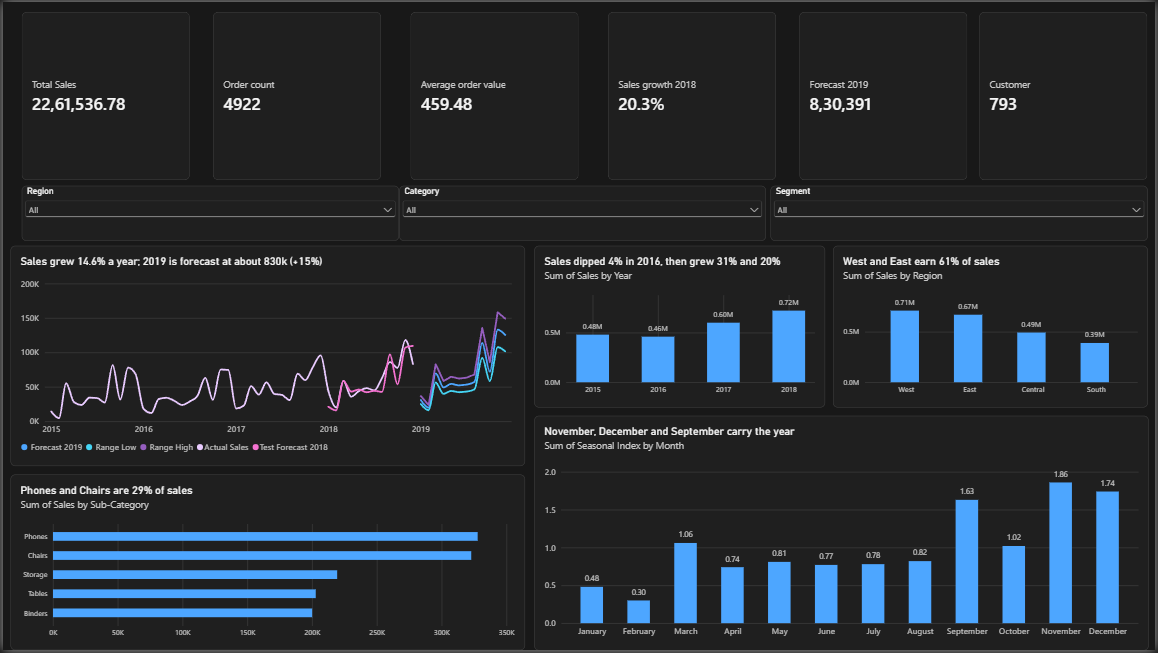

What the dashboard file says about the page in this screenshot:
{"tool":"powerbi","page":{"name":"Page 1","canvas":[1920,1080],"ordinal":0},"visuals":[{"type":"cardVisual","fields":{"Data":["Sum(orders.Sales)"]},"box":[30.9,16.5,280,280],"z":0},{"type":"cardVisual","fields":{"Data":["orders.Order count"]},"box":[349.9,16.5,280,280],"z":1000},{"type":"cardVisual","fields":{"Data":["orders.Average order value"]},"box":[679.2,16.5,280,280],"z":2000},{"type":"cardVisual","fields":{"Data":["orders.Sales growth 2018"]},"box":[1008.6,16.5,280,280],"z":3000},{"type":"cardVisual","fields":{"Data":["Sum(monthly.Forecast 2019)"]},"box":[1326.2,16.5,280,280],"z":3001},{"type":"cardVisual","fields":{"Data":["Count(orders.Customer ID)"]},"box":[1627,16.5,280,280],"z":3002},{"type":"slicer","fields":{"Values":["orders.Region"]},"box":[31.2,306.3,629.1,91.7],"z":3003},{"type":"slicer","fields":{"Values":["orders.Segment"]},"box":[1278.5,306.3,629.1,91.7],"z":3004},{"type":"slicer","fields":{"Values":["orders.Category"]},"box":[660.3,306.3,610.8,91.7],"z":3005},{"type":"lineChart","title":"Sales grew 14.6% a year; 2019 is forecast at about 830k (+15%)","fields":{"Category":["monthly2.Month.Variation.Date Hierarchy.Year","monthly2.Month.Variation.Date Hierarchy.Quarter","monthly2.Month.Variation.Date Hierarchy.Month","monthly2.Month.Variation.Date Hierarchy.Day"],"Y":["Sum(monthly2.Forecast 2019)","Sum(monthly2.Range Low)","Sum(monthly2.Range High)","Sum(monthly2.Actual Sales)","Sum(monthly2.Test Forecast 2018)"]},"box":[12.7,407.2,857.8,367.4],"z":3006},{"type":"clusteredColumnChart","title":"Sales dipped 4% in 2016, then grew 31% and 20%","fields":{"Category":["orders1.Year"],"Y":["Sum(orders1.Sales)"]},"box":[884.9,407.2,485,269.6],"z":3007},{"type":"clusteredColumnChart","title":"\tNovember, December and September carry the year","fields":{"Category":["seasonal.Month.Variation.Date Hierarchy.Month"],"Y":["Sum(seasonal.Seasonal Index)"]},"box":[884.9,689.5,1024.3,390.9],"z":3008},{"type":"clusteredBarChart","title":"Phones and Chairs are 29% of sales","fields":{"Category":["orders.Sub-Category"],"Y":["Sum(orders.Sales)"]},"box":[12.7,787.2,857.8,293.2],"z":3009},{"type":"clusteredColumnChart","title":"West and East earn 61% of sales","fields":{"Category":["orders.Region"],"Y":["Sum(orders.Sales)"]},"box":[1382.6,407.2,524.8,269.6],"z":3010}]}

Visuals, with their boxes in screenshot pixels (x1, y1, x2, y2), scaled from the page's 1920x1080 canvas onto the 1158x653 screenshot:
cardVisual - Sum(orders.Sales): (19, 10, 188, 179)
cardVisual - orders.Order count: (211, 10, 380, 179)
cardVisual - orders.Average order value: (410, 10, 579, 179)
cardVisual - orders.Sales growth 2018: (608, 10, 777, 179)
cardVisual - Sum(monthly.Forecast 2019): (800, 10, 969, 179)
cardVisual - Count(orders.Customer ID): (981, 10, 1150, 179)
slicer - orders.Region: (19, 185, 398, 241)
slicer - orders.Segment: (771, 185, 1151, 241)
slicer - orders.Category: (398, 185, 767, 241)
"Sales grew 14.6% a year; 2019 is forecast at about 830k (+15%)" lineChart: (8, 246, 525, 468)
"Sales dipped 4% in 2016, then grew 31% and 20%" clusteredColumnChart: (534, 246, 826, 409)
"	November, December and September carry the year" clusteredColumnChart: (534, 417, 1151, 652)
"Phones and Chairs are 29% of sales" clusteredBarChart: (8, 476, 525, 652)
"West and East earn 61% of sales" clusteredColumnChart: (834, 246, 1150, 409)
